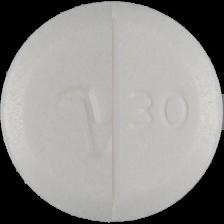0615-7936: (0, 0, 224, 224)
